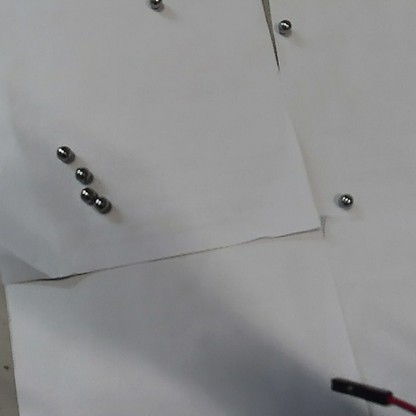ironball: (92, 194, 112, 214), (274, 17, 294, 35), (73, 165, 91, 185), (334, 190, 352, 209), (55, 144, 73, 162), (78, 183, 94, 203), (146, 0, 163, 10)
